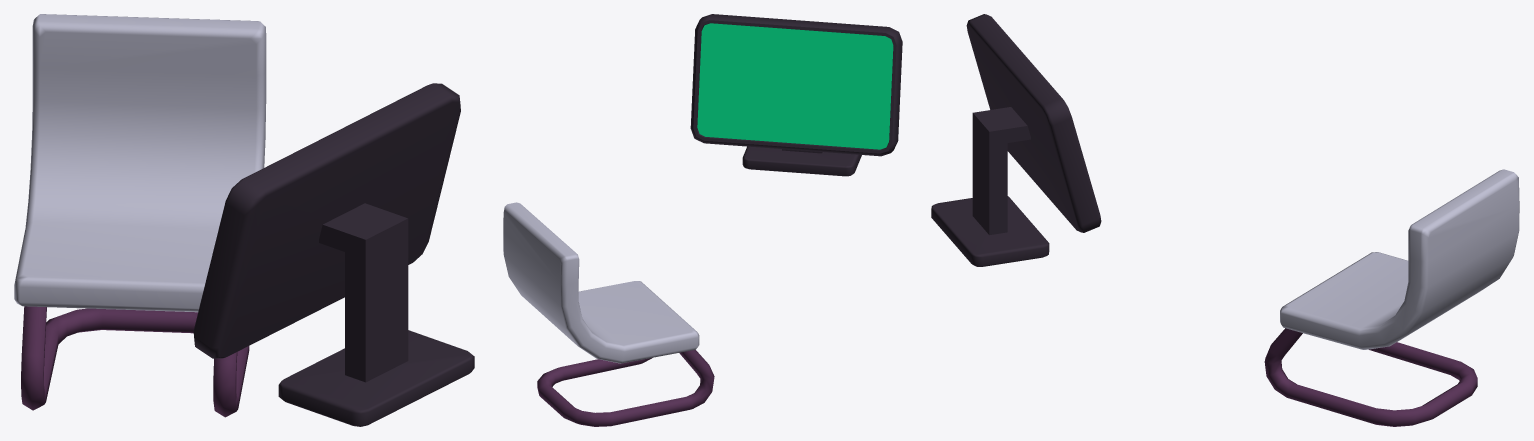
The model's file is @maytinhghe.fbx.
3 views of the same model, side by side, from view 1: azimuth 30°, elevation 25°; view 2: azimuth 150°, elevation 25°; view 3: azimuth 270°, elevation 25° (orthographic). The views are drawn at different scales.
Visible parts, largest first — view 1: map2:Ghe_4, map2:Maytinh; view 2: map2:Maytinh, map2:Ghe_4; view 3: map2:Ghe_4, map2:Maytinh.
Part boxes in pixels (x1,y1,x2,y2): map2:Ghe_4: (14, 14, 266, 417); map2:Maytinh: (193, 83, 474, 426); map2:Maytinh: (690, 14, 902, 176); map2:Ghe_4: (503, 202, 714, 426); map2:Ghe_4: (1264, 169, 1519, 426); map2:Maytinh: (931, 14, 1101, 266).
Bounding box in the file's own units: 126 × 150 × 251.
